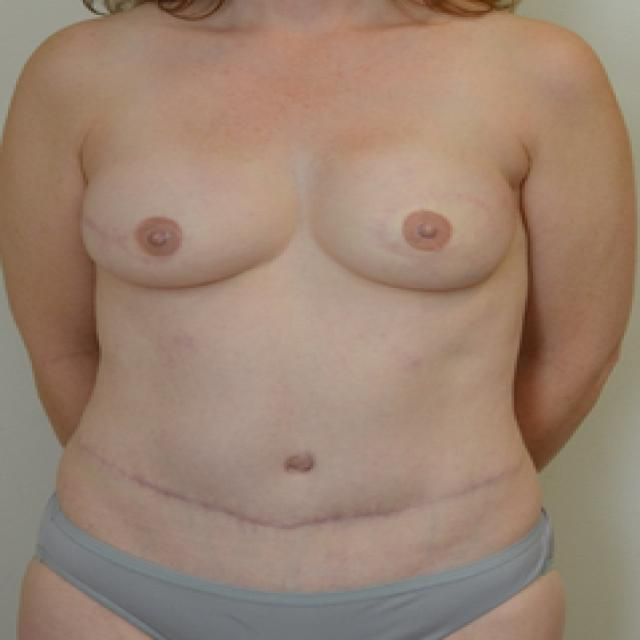Seno herido: (71, 142, 302, 301), (311, 142, 528, 302)
